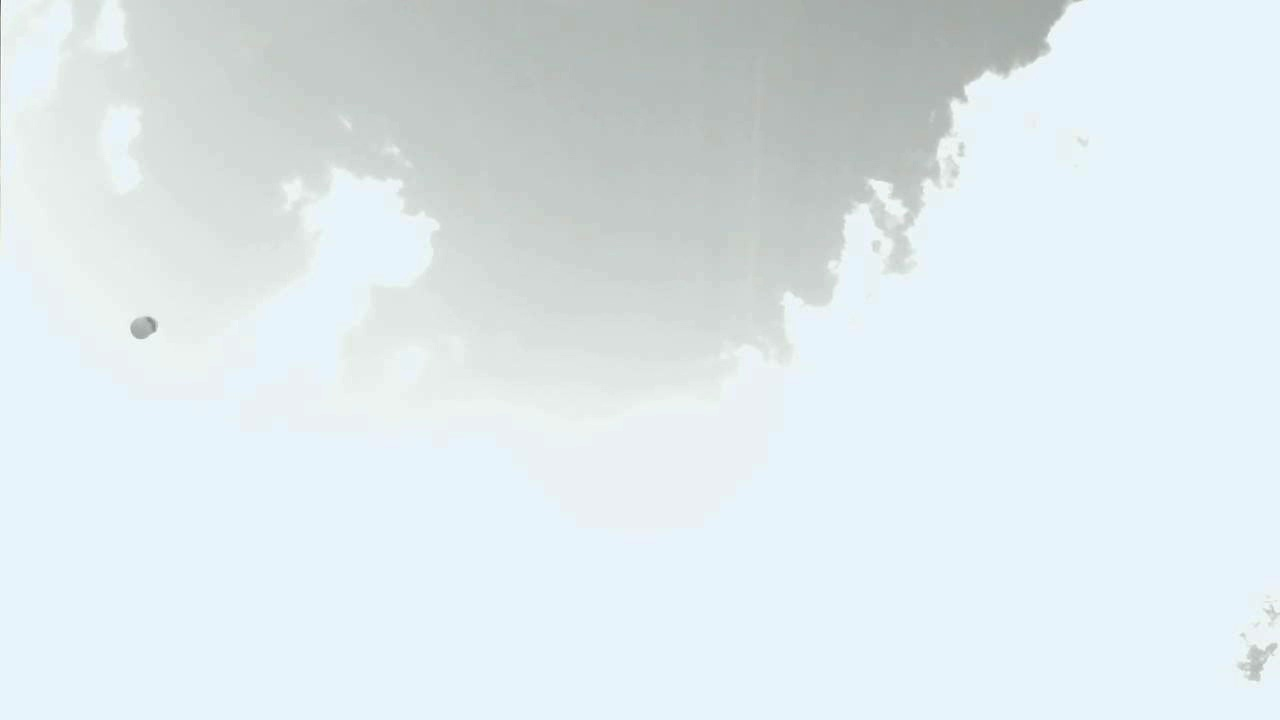Football-Spotter: (130, 316, 157, 338)
